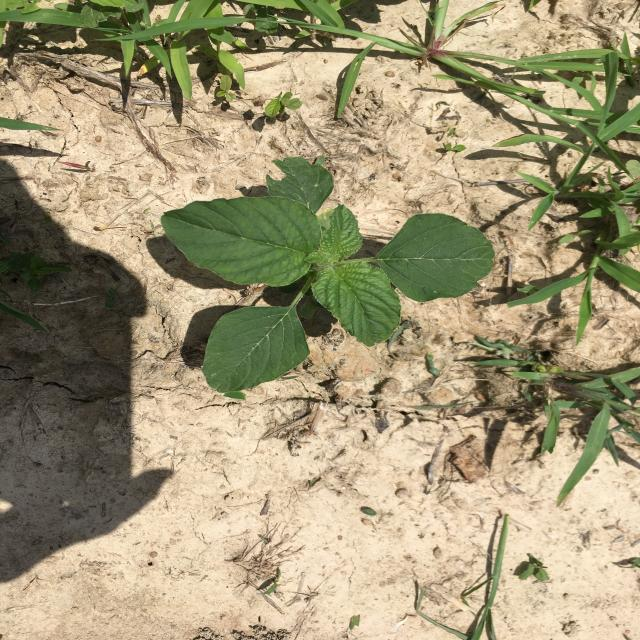PalmerAmaranth: (160, 156, 495, 394)
